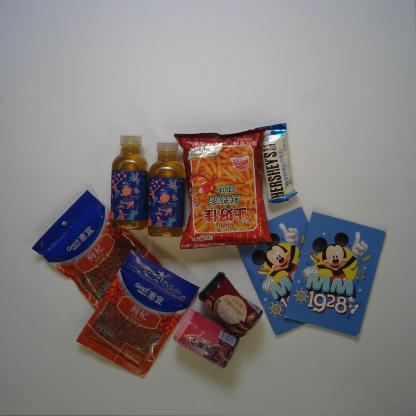Canned Food: (199, 271, 264, 335), (172, 308, 240, 367)
Chocolate: (255, 122, 299, 204)
Dried Fruit: (74, 249, 200, 379), (30, 189, 162, 313)
Drink: (146, 141, 186, 240), (108, 134, 148, 230)
Puffed Food: (174, 125, 273, 252)
Stationery: (282, 210, 386, 339), (234, 205, 337, 335)
